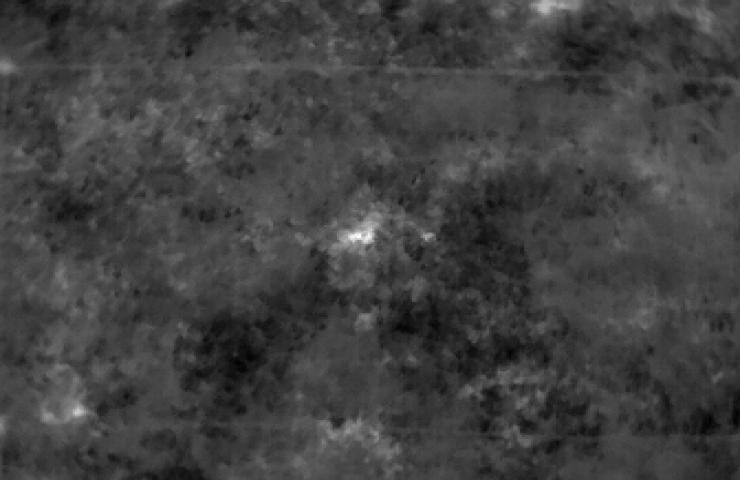landmines: (346, 218, 382, 250)
